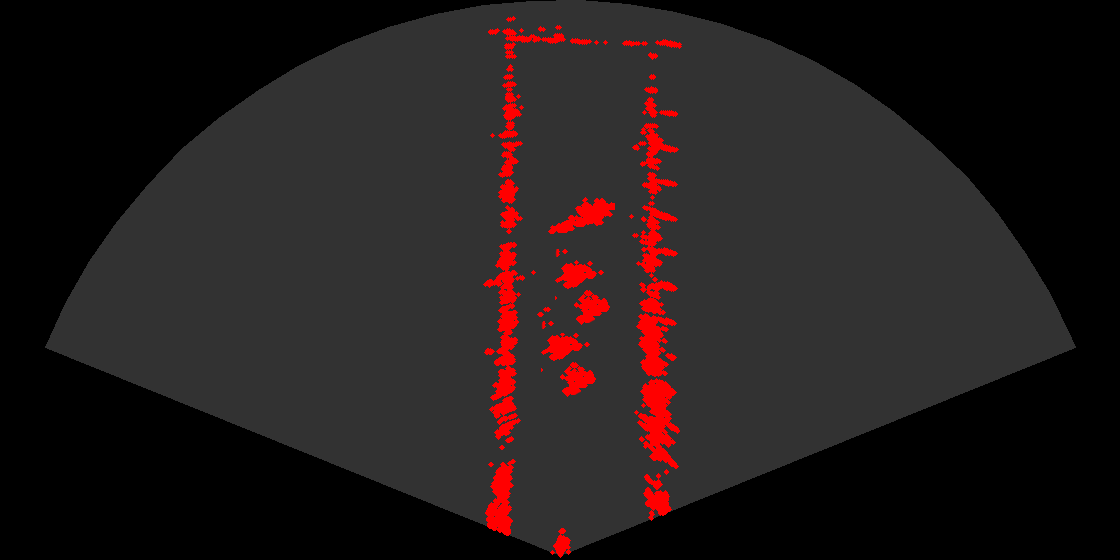cage: (541, 321, 604, 405), (555, 249, 618, 333)
frogman: (547, 191, 615, 238)
